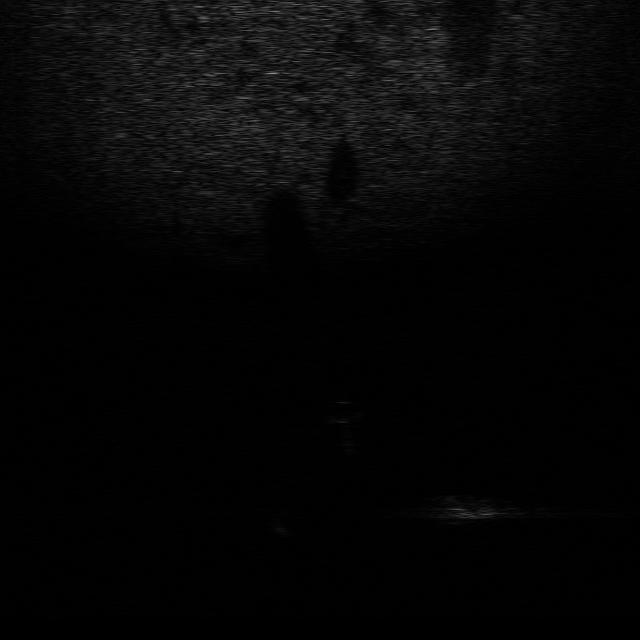ball: (318, 394, 368, 426)
metal bucket: (416, 489, 506, 526)
tyre: (266, 504, 318, 540)
